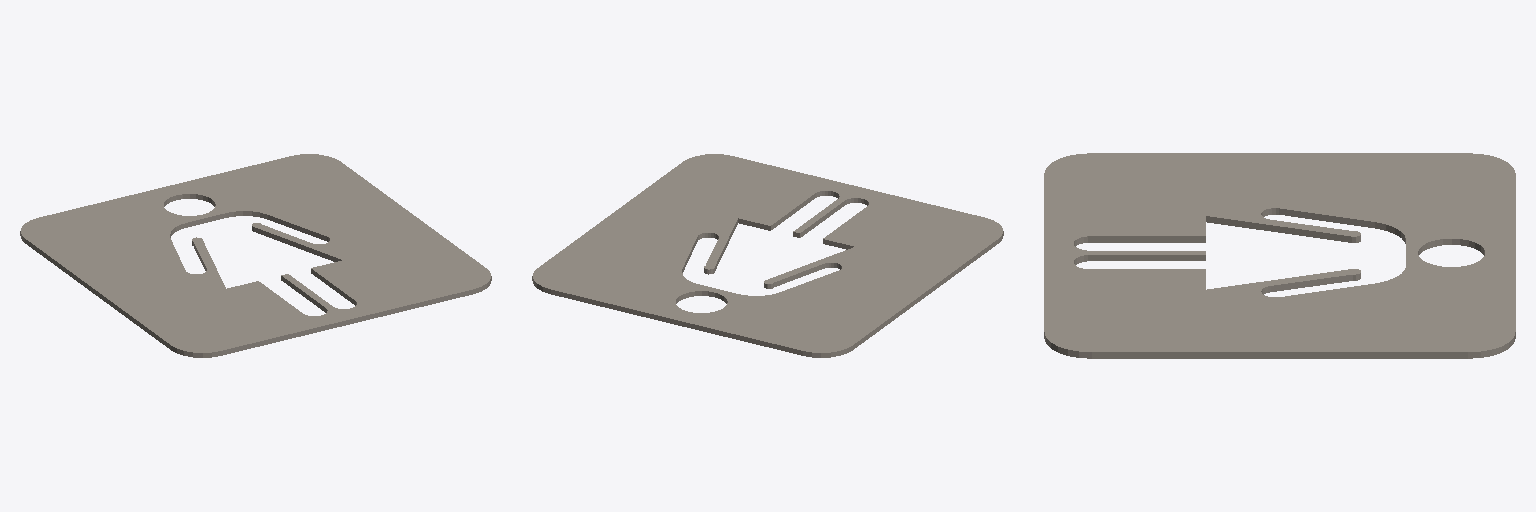
robot.urdf — bathroom_poster_woman:
<robot
  name="bathroom_poster_woman">
  <link
    name="bathroom_poster_woman">
    <inertial>
      <origin
        xyz="5.9862E-09 -6.4324E-05 -0.00075"
        rpy="0 0 0" />
      <mass
        value="0.095818" />
      <inertia
        ixx="8.80453037675995E-05"
        ixy="1.28568396581369E-11"
        ixz="6.9614337110952E-23"
        iyy="9.57395337577417E-05"
        iyz="5.40266459898213E-21"
        izz="0.000183748905738192" />
    </inertial>
    <visual>
      <origin
        xyz="0 0 0"
        rpy="0 0 0" />
      <geometry>
        <mesh
          filename="package://bathroom_poster_woman/meshes/bathroom_poster_woman.dae" />
      </geometry>
      <material
        name="">
        <color
          rgba="0.64706 0.61961 0.58824 1" />
      </material>
    </visual>
    <collision>
      <origin
        xyz="0 0 0"
        rpy="0 0 0" />
      <geometry>
        <mesh
          filename="package://bathroom_poster_woman/meshes/bathroom_poster_woman.dae" />
      </geometry>
    </collision>
  </link>
</robot>

--- Render facts (derived) ---
Views: 3 orthographic renders of the robot side by side, from view 1: azimuth 30°, elevation 25°; view 2: azimuth 150°, elevation 25°; view 3: azimuth 270°, elevation 25°.
Robot: bathroom_poster_woman — 1 links, 0 joints (none); root link bathroom_poster_woman; default pose: every joint at zero.
Links seen in each view (by area): view 1: bathroom_poster_woman; view 2: bathroom_poster_woman; view 3: bathroom_poster_woman.
Link boxes in pixels (bbox=[...]): bathroom_poster_woman: bbox=[20, 154, 491, 357]; bathroom_poster_woman: bbox=[532, 154, 1003, 357]; bathroom_poster_woman: bbox=[1044, 153, 1515, 358].
Size in the robot's own frame: 0.1 by 0.1 by 0.0015 metres.
1 mesh visuals loaded from 1 distinct referenced files (1 Collada DAE).